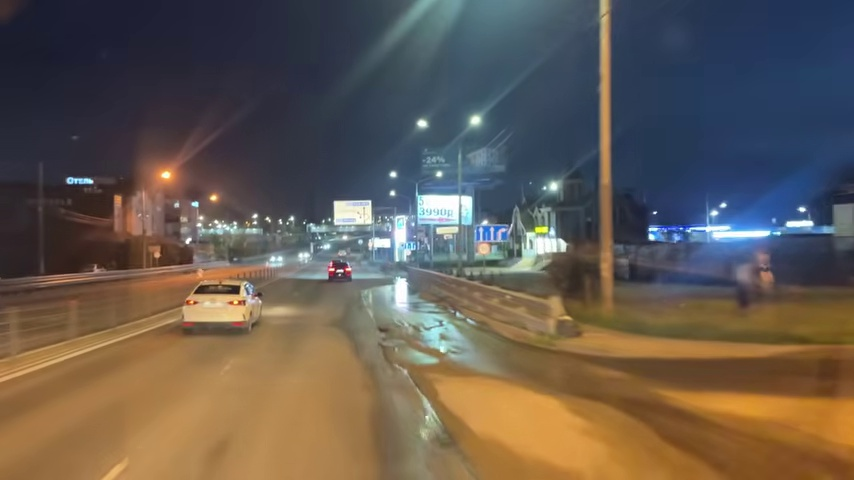acesa: (156, 166, 176, 184), (544, 179, 562, 195), (467, 113, 483, 129), (414, 116, 430, 132), (207, 190, 221, 205), (387, 168, 399, 180)
